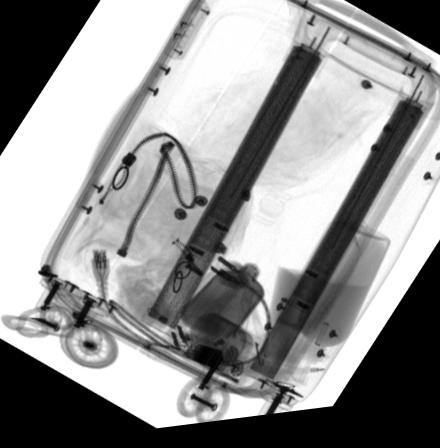Scissors: (255, 382, 308, 406)
